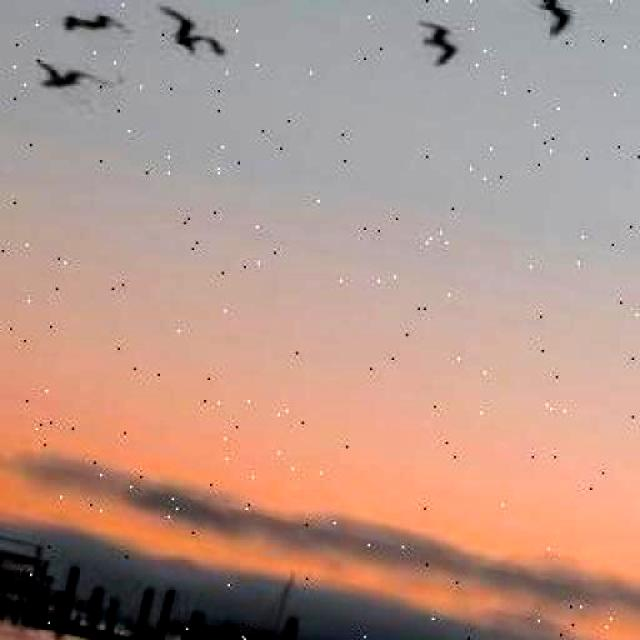airplane: (141, 0, 239, 62), (29, 55, 119, 105), (56, 5, 132, 49), (408, 19, 460, 71), (526, 0, 582, 41)
